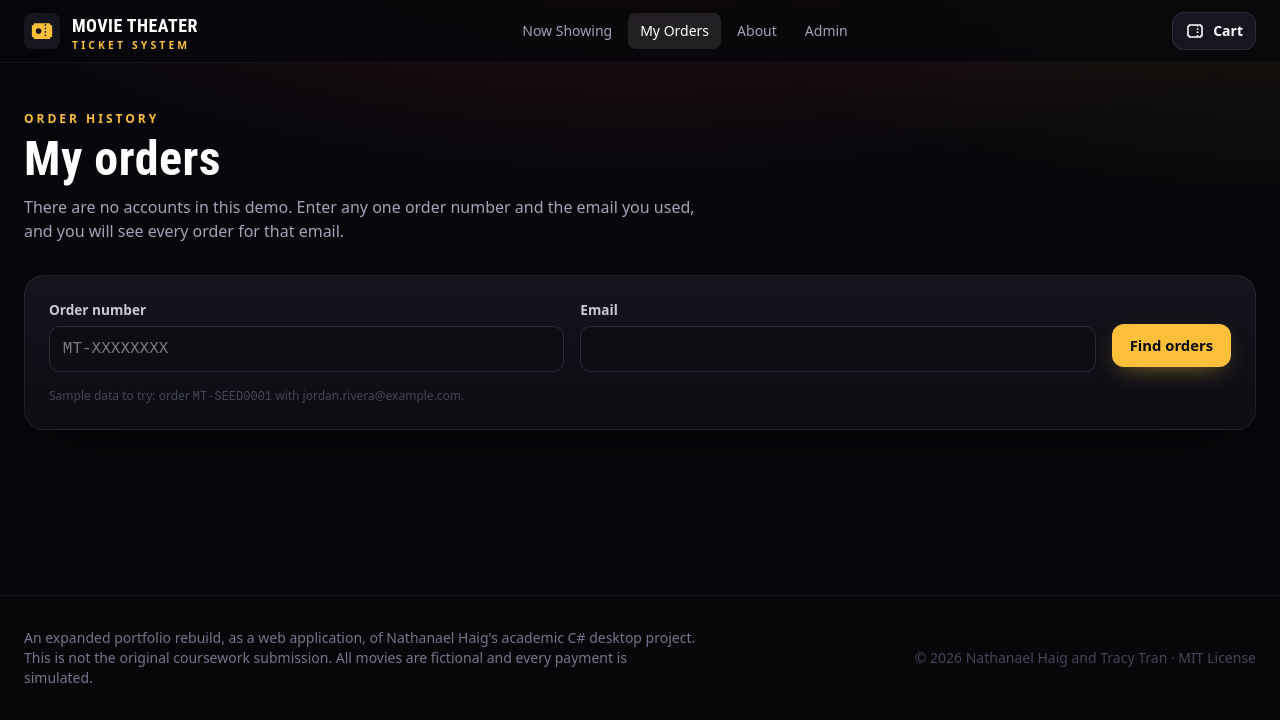
it: OrdersPage › finds orders and cancels one after confirmation
This screenshot has width=1280, height=720.
Type "mt-7k3qx9ab" into the field labelled "Order number" at (307, 349), box [49,326,564,372]
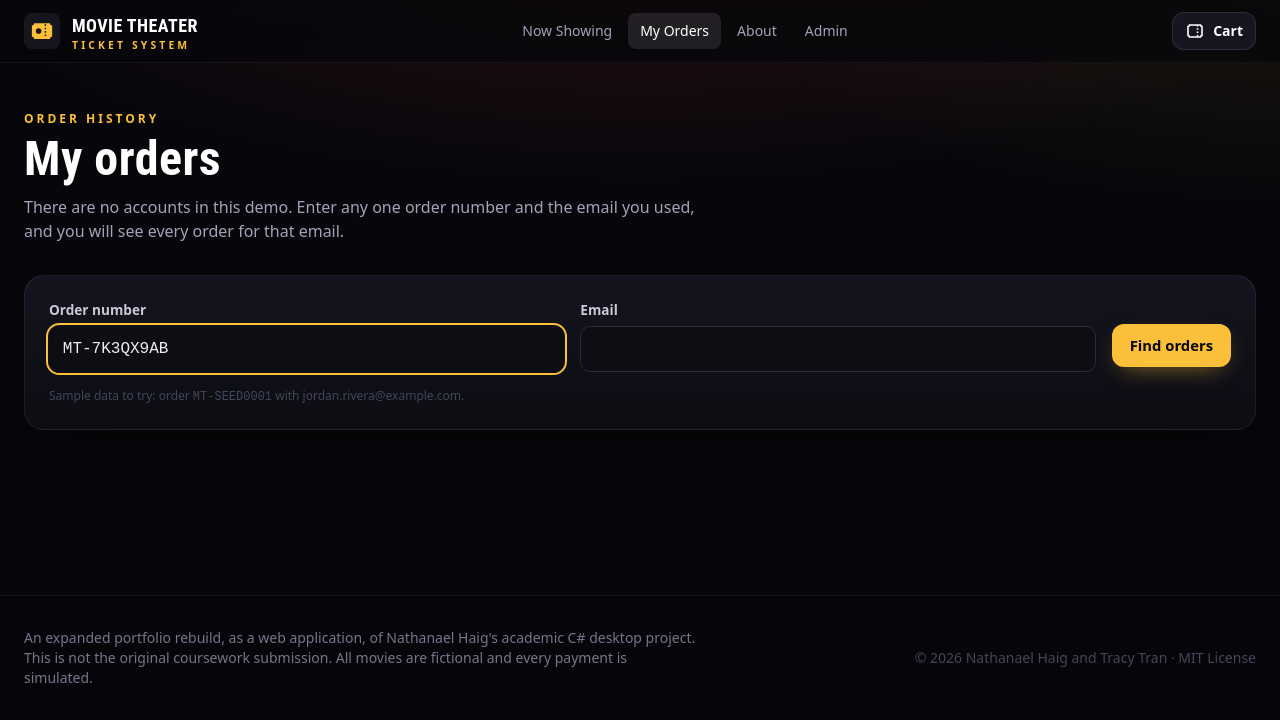
Type "avery@example.com" into the field labelled "Email" at (838, 349), box [580,326,1096,372]
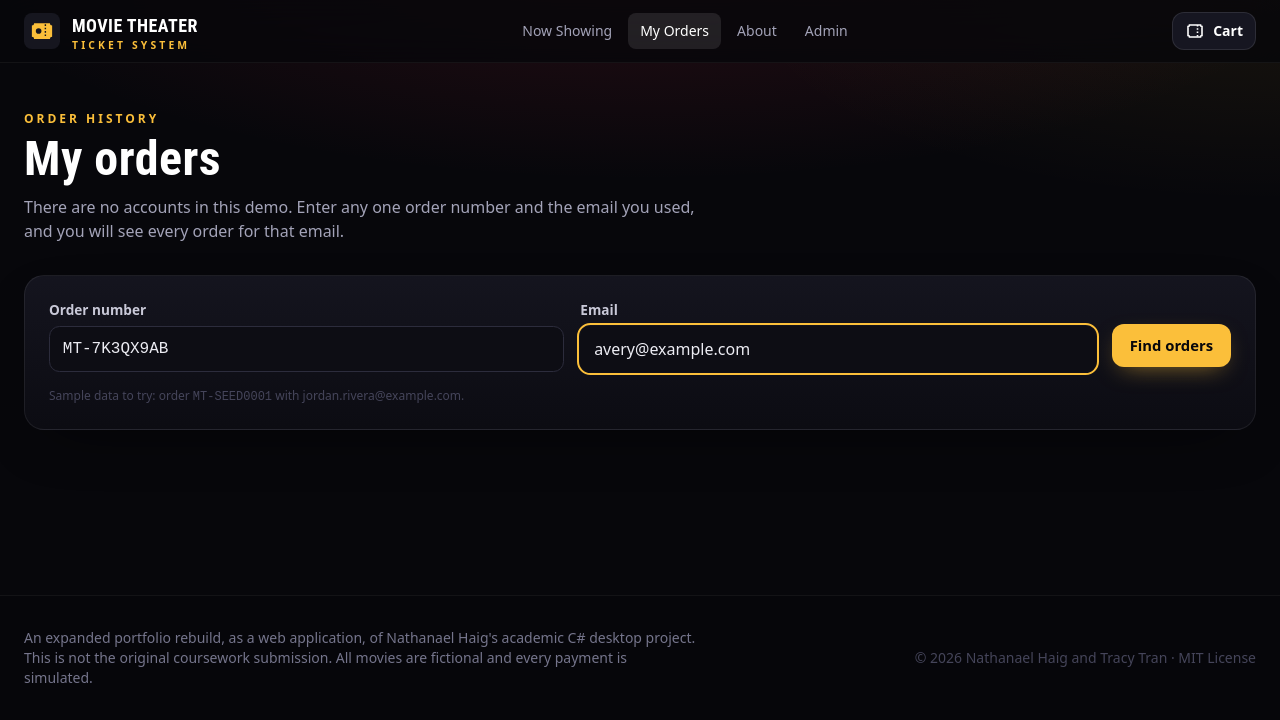
Click the button "Find orders" at (1171, 346), box [1112,324,1231,367]
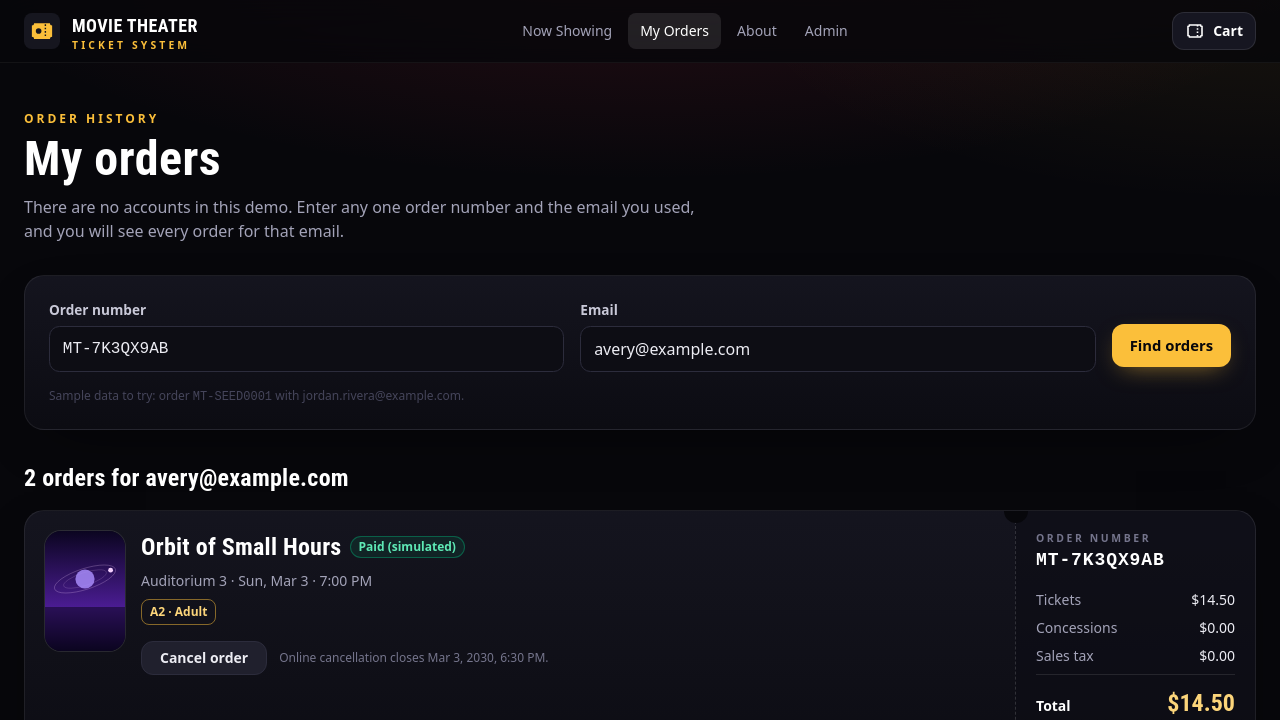
Expected: the heading "2 orders for avery@example.com" is shown, [24,464,349,492]
Click the button "Cancel order" at (204, 658), box [141,641,267,675]
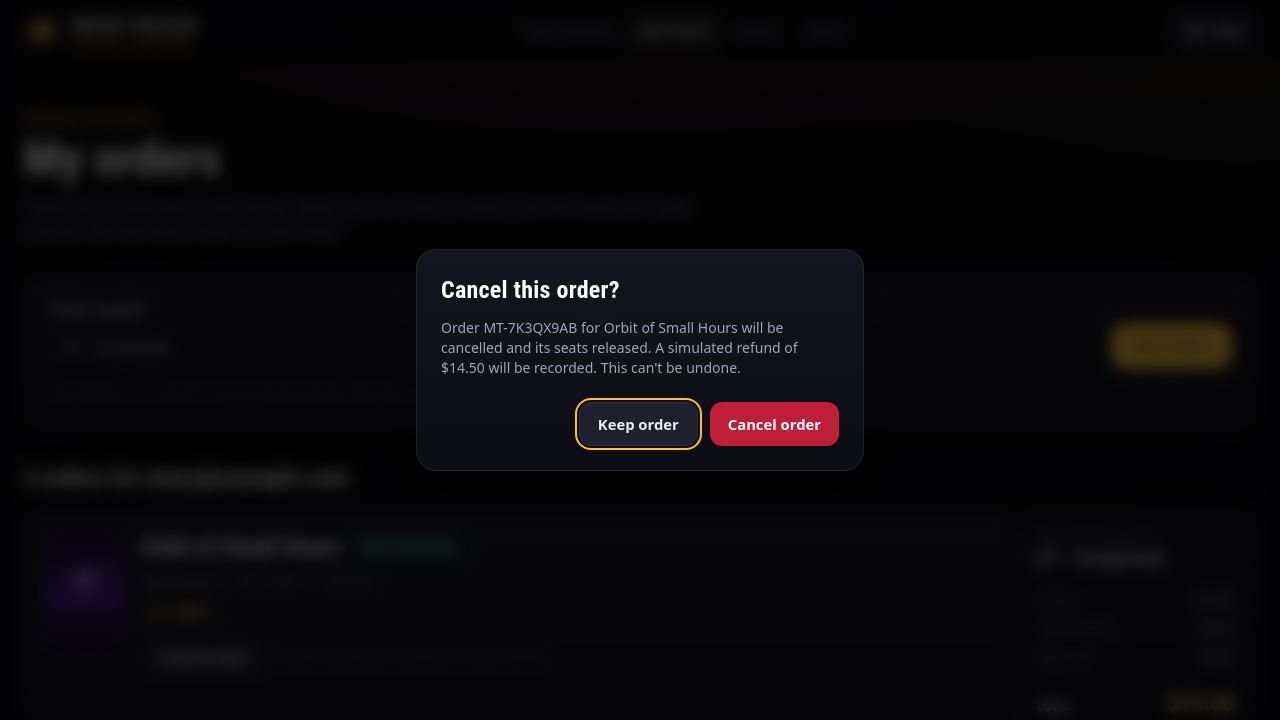
Click the button "Cancel order" at (774, 424), box [710,402,839,446]
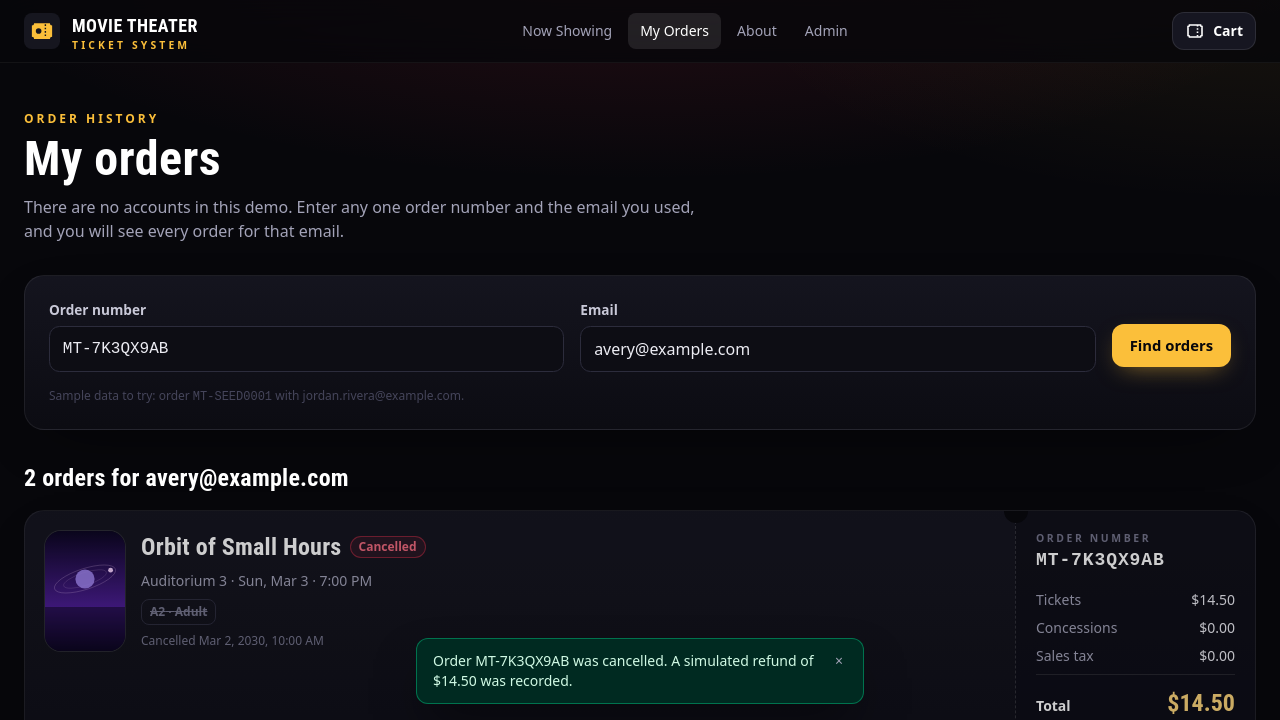
Expected: the text "A simulated refund of $14.50 was recorded" is shown, [433,651,814,690]
Expected: the text "Cancelled" is shown, [350,536,426,558]
